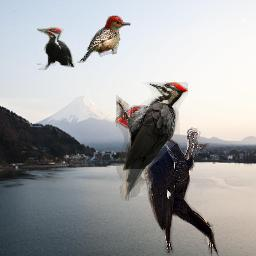Woodpecker: (115, 96, 219, 256), (116, 82, 188, 201), (77, 15, 132, 63), (37, 25, 75, 70)
